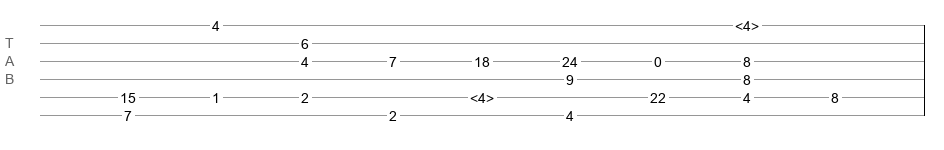0: (654, 54, 662, 64)
1: (212, 90, 220, 100)
15: (120, 90, 136, 100)
18: (474, 54, 490, 64)
2: (301, 90, 309, 100), (389, 108, 397, 118)
22: (650, 90, 666, 100)
24: (562, 54, 578, 64)
4: (212, 18, 220, 28), (301, 54, 309, 64), (566, 108, 574, 118), (743, 90, 751, 100)
6: (301, 36, 309, 46)
7: (124, 108, 132, 118), (389, 54, 397, 64)
8: (743, 72, 751, 82), (743, 54, 751, 64), (831, 90, 839, 100)
9: (566, 72, 574, 82)
harmonic: (470, 90, 494, 100), (735, 18, 759, 28)
